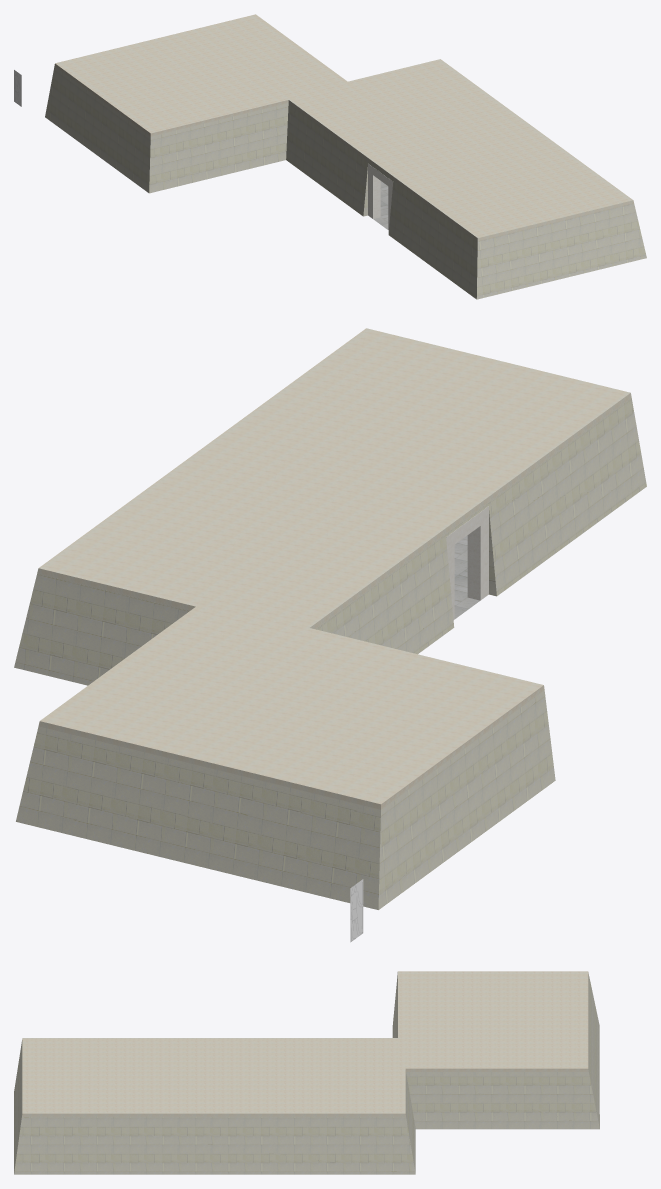
Rendered from Mes.glb.
The picture shows the model from 3 angles, top to bottom: view 1: azimuth 30°, elevation 25°; view 2: azimuth 150°, elevation 25°; view 3: azimuth 270°, elevation 25°; orthographic projection. The views are drawn at different scales.
Parts seen in each view (by area): view 1: Mesh10 Model, Mesh1 Component_1_1 Model; view 2: Mesh10 Model, Mesh1 Component_1_1 Model; view 3: Mesh10 Model.
Part boxes in pixels (x1,y1,x2,y2): Mesh10 Model: [45, 14, 646, 299]; Mesh1 Component_1_1 Model: [368, 163, 393, 230]; Mesh10 Model: [14, 328, 646, 909]; Mesh1 Component_1_1 Model: [446, 506, 488, 619]; Mesh10 Model: [14, 971, 599, 1174].
Size of the model in its own units: 16.43 by 2.85 by 28.87.
6 materials, 5 textured.
